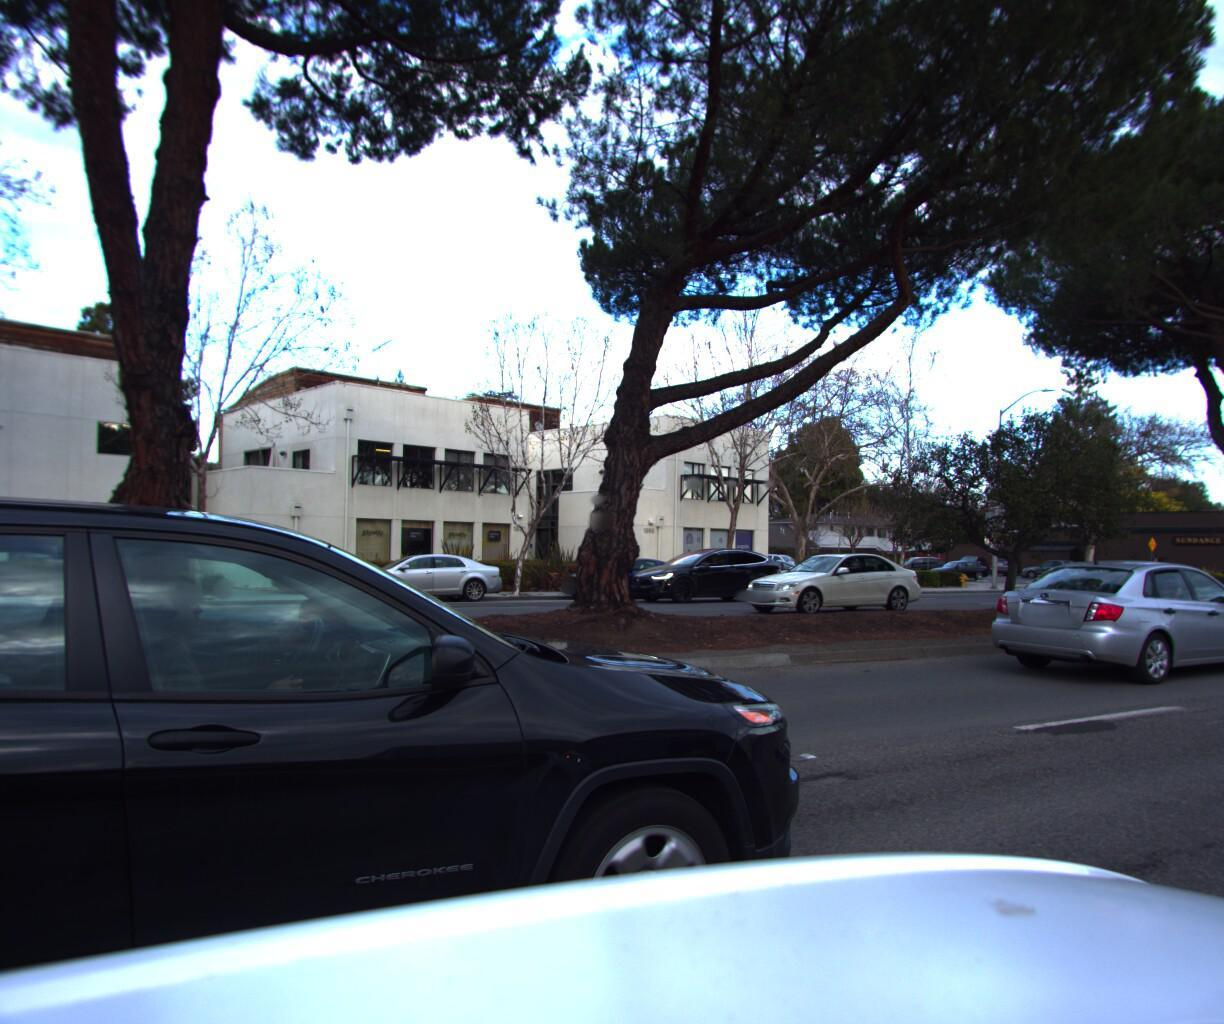car: (972, 547, 1224, 686), (731, 548, 929, 614), (319, 548, 507, 605), (620, 543, 786, 600), (547, 552, 703, 601), (695, 554, 820, 595)
